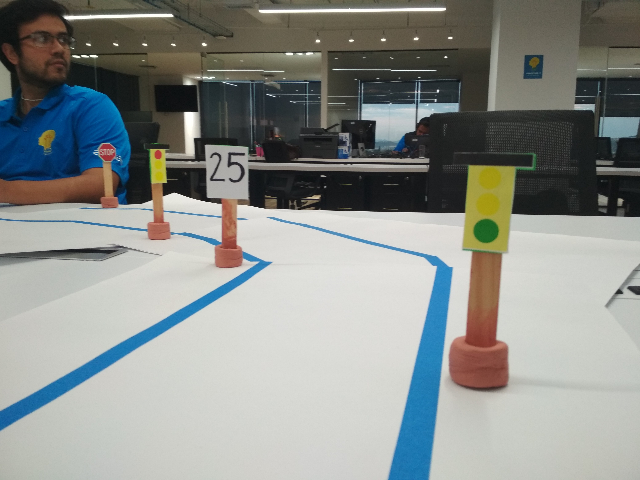Green Traffic Light: (451, 150, 537, 251)
Red Traffic Light: (140, 142, 171, 186)
Speed Limit 25: (200, 142, 252, 201)
Stop Sign: (96, 142, 116, 163)
